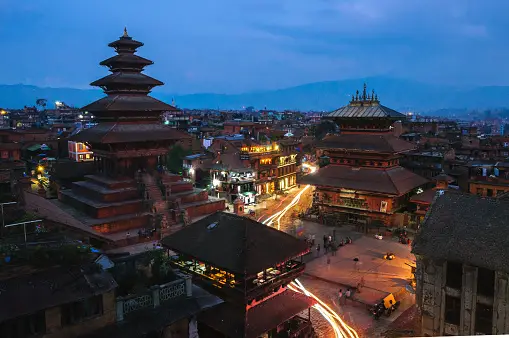nyathapola: (83, 24, 199, 237)
